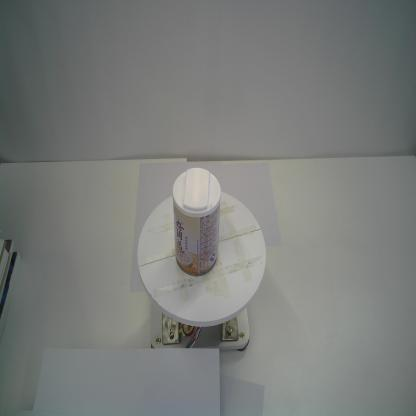Canned Food: (170, 162, 221, 280)
